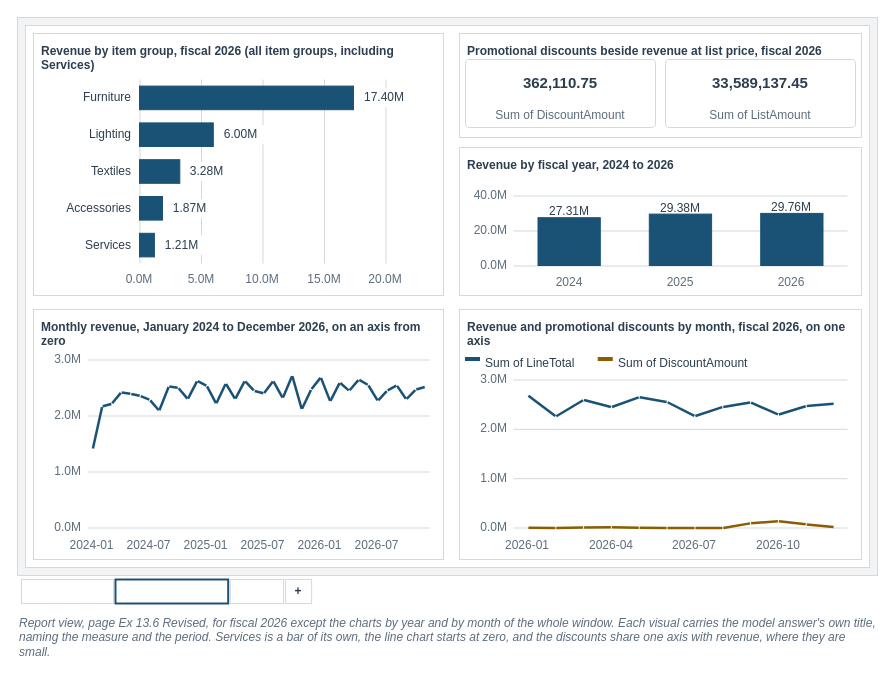
Some shapes in this 895 by 682 pixel diagram are drawn without their labels. The centre of each missing label's shape, as x and y in pixels:
"Ex 13.6 Draft" goes at (x=67, y=591).
"Ex 13.6 Revised" goes at (x=171, y=591).
"Notes" goes at (x=256, y=591).
